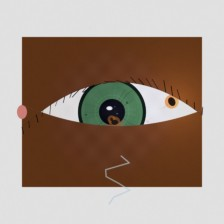foreign_body_visible: (103, 112, 120, 126)
